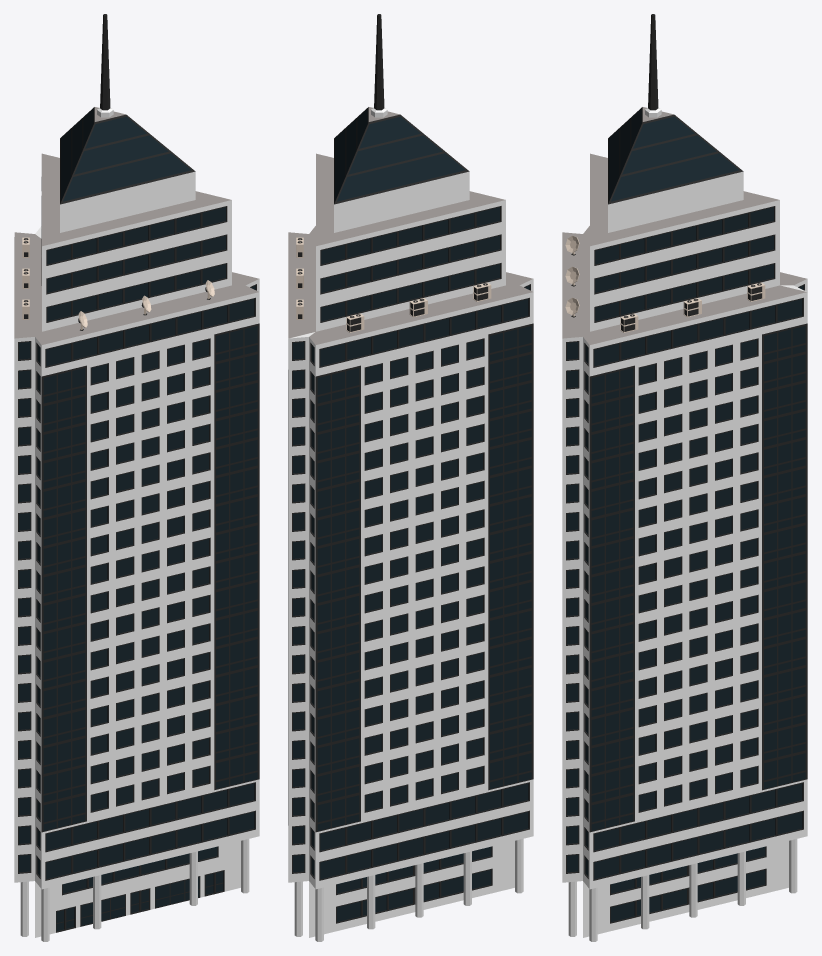
The model's file is building-skyscraper.glb.
3 renders of one model, left to right at view 1: azimuth 30°, elevation 25°; view 2: azimuth 150°, elevation 25°; view 3: azimuth 270°, elevation 25°, orthographic.
Parts seen in each view (by area): view 1: building-skyscraper; view 2: building-skyscraper; view 3: building-skyscraper.
Boxes of the visible parts, <box> form: building-skyscraper: <box>14,14,259,941</box>; building-skyscraper: <box>288,14,533,941</box>; building-skyscraper: <box>562,14,807,941</box>.
Size of the model in its own units: 27 by 91.8 by 23.38.
1 material, 1 textured.
